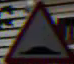Speed Breaker ahead: (6, 6, 60, 59)
